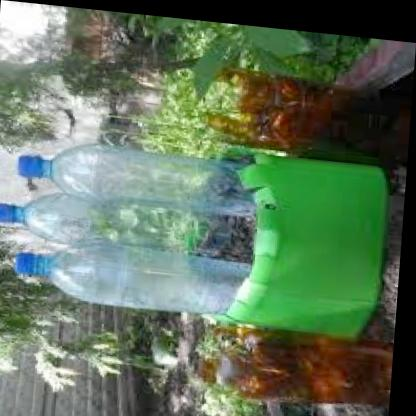Plastic: (214, 50, 386, 152), (9, 231, 234, 305), (14, 135, 230, 212), (216, 319, 390, 412), (0, 188, 243, 252)
